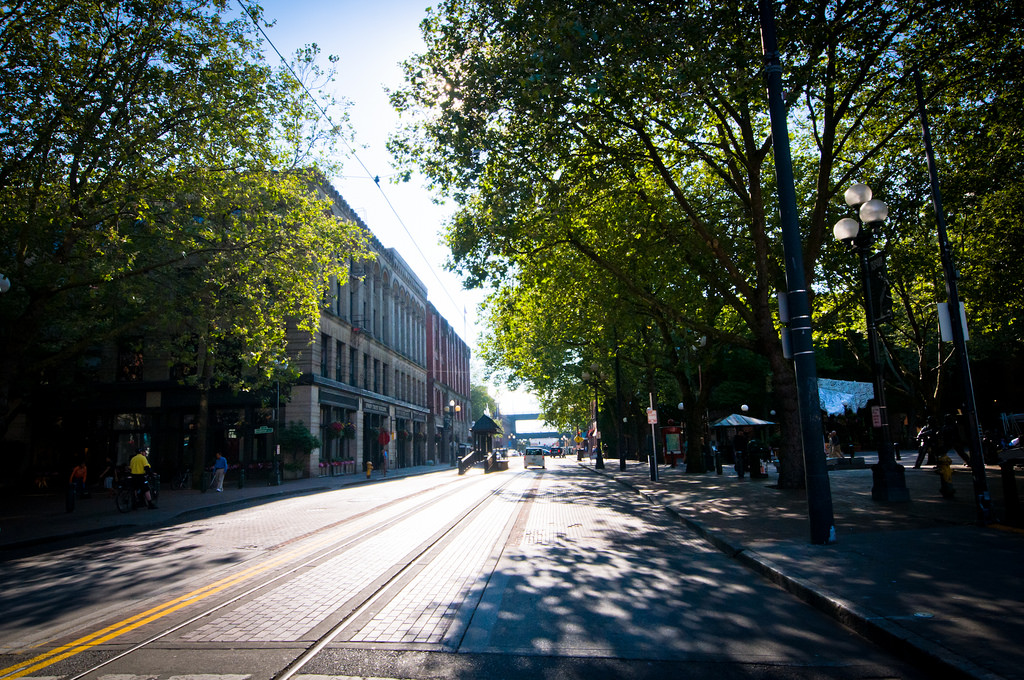Tree: (437, 1, 976, 534), (1, 1, 329, 500)
